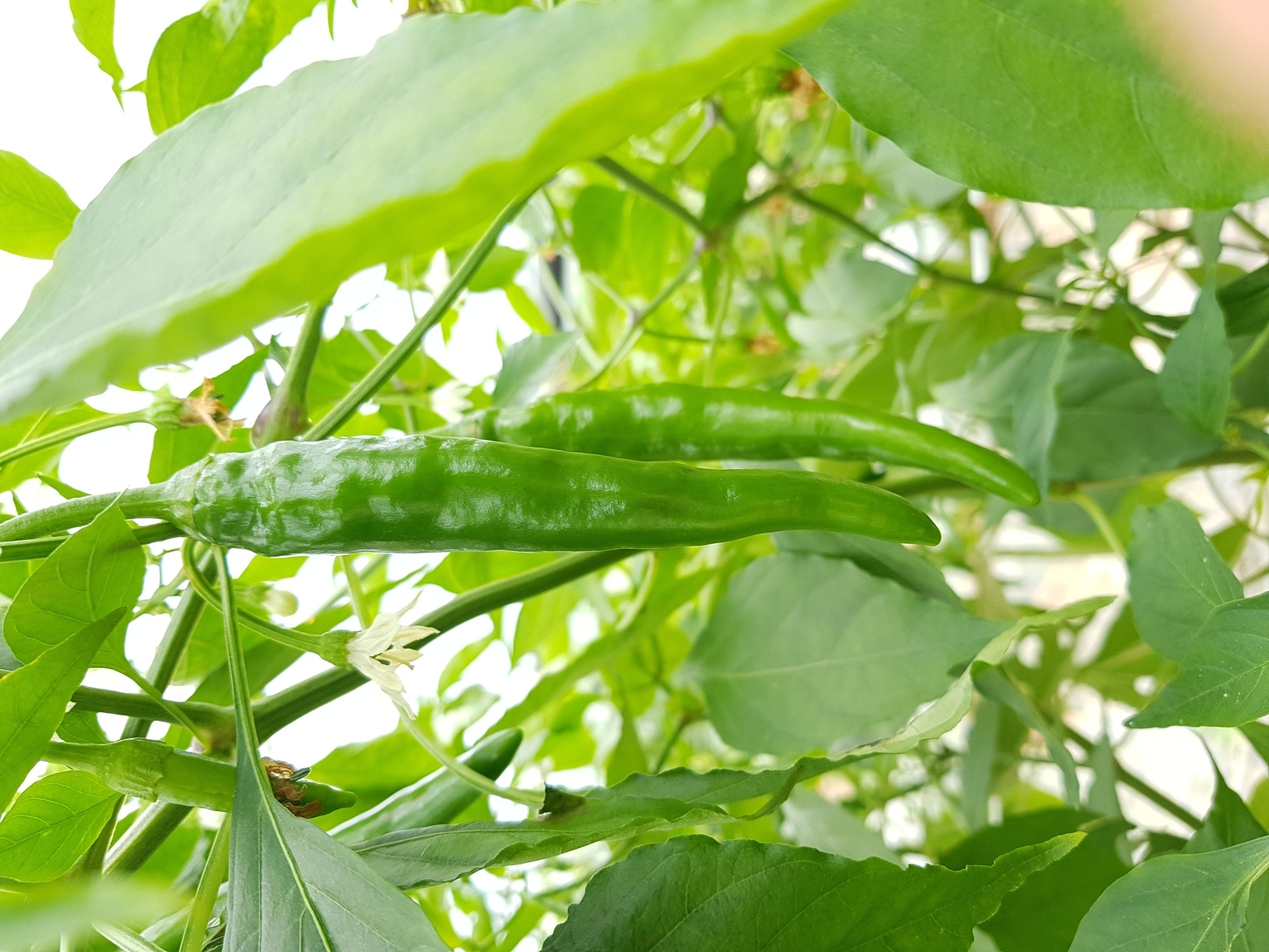Buah Cabai Sehat: (182, 432, 943, 560), (484, 381, 1043, 510)
Daun Cabai Sehat: (691, 551, 1027, 772), (508, 832, 1102, 952)
